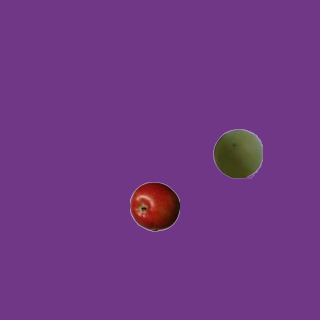Apple Braeburn: (129, 181, 179, 231)
Grape White 4: (212, 128, 262, 178)
